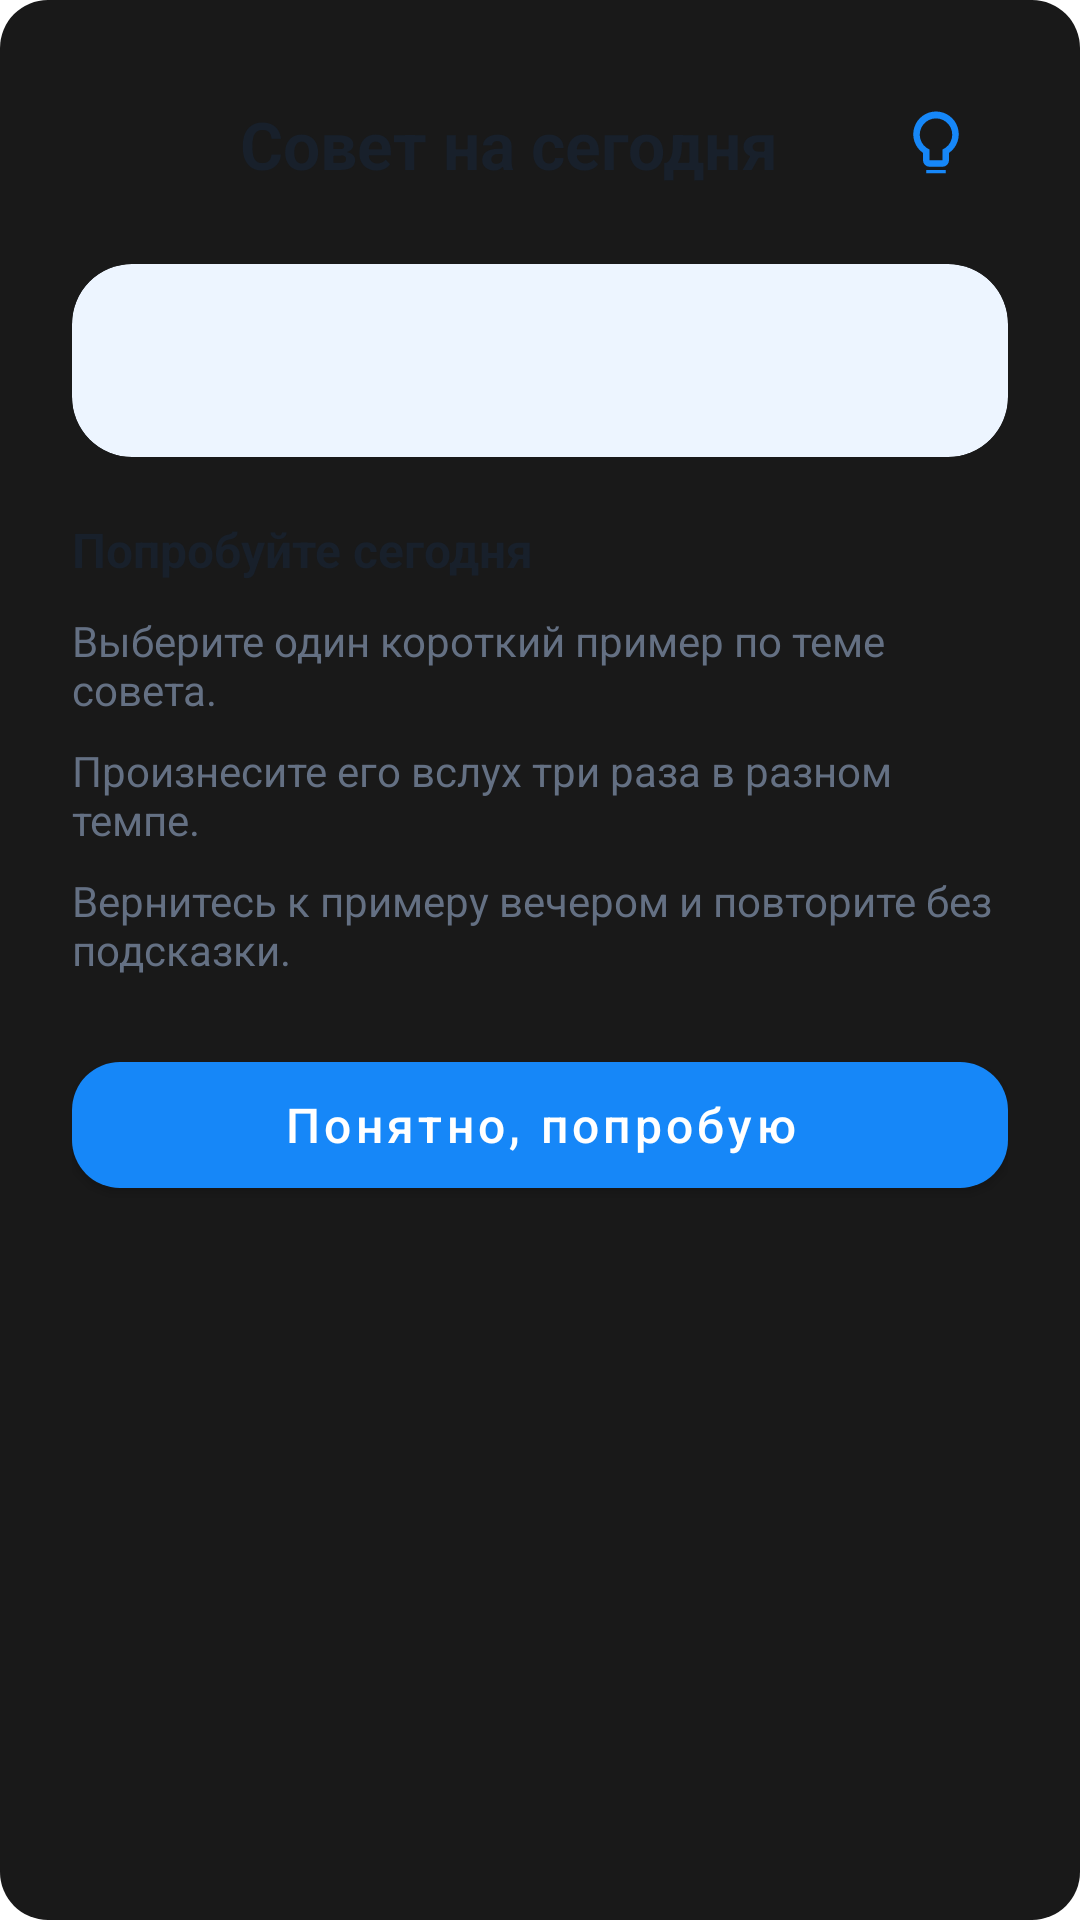

Named icons in this screenshot (1080x1920) and their centers, point (x, y):
lightbulb: point (936, 142)
